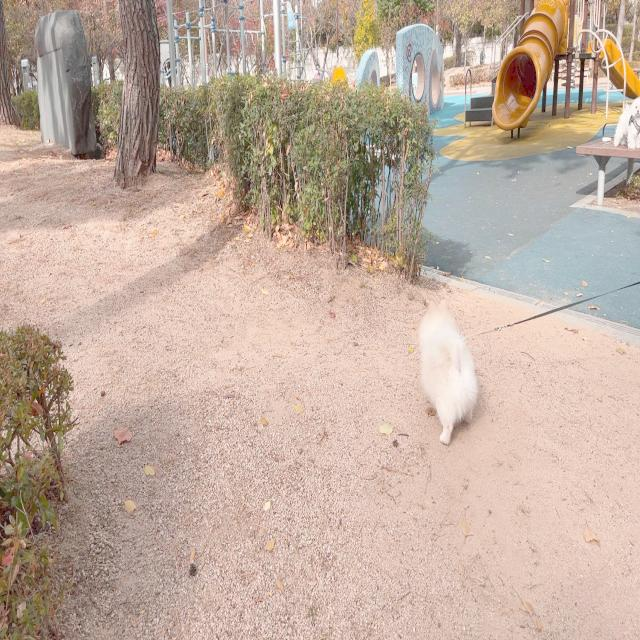Dog: (418, 299, 479, 445), (613, 96, 640, 150)
